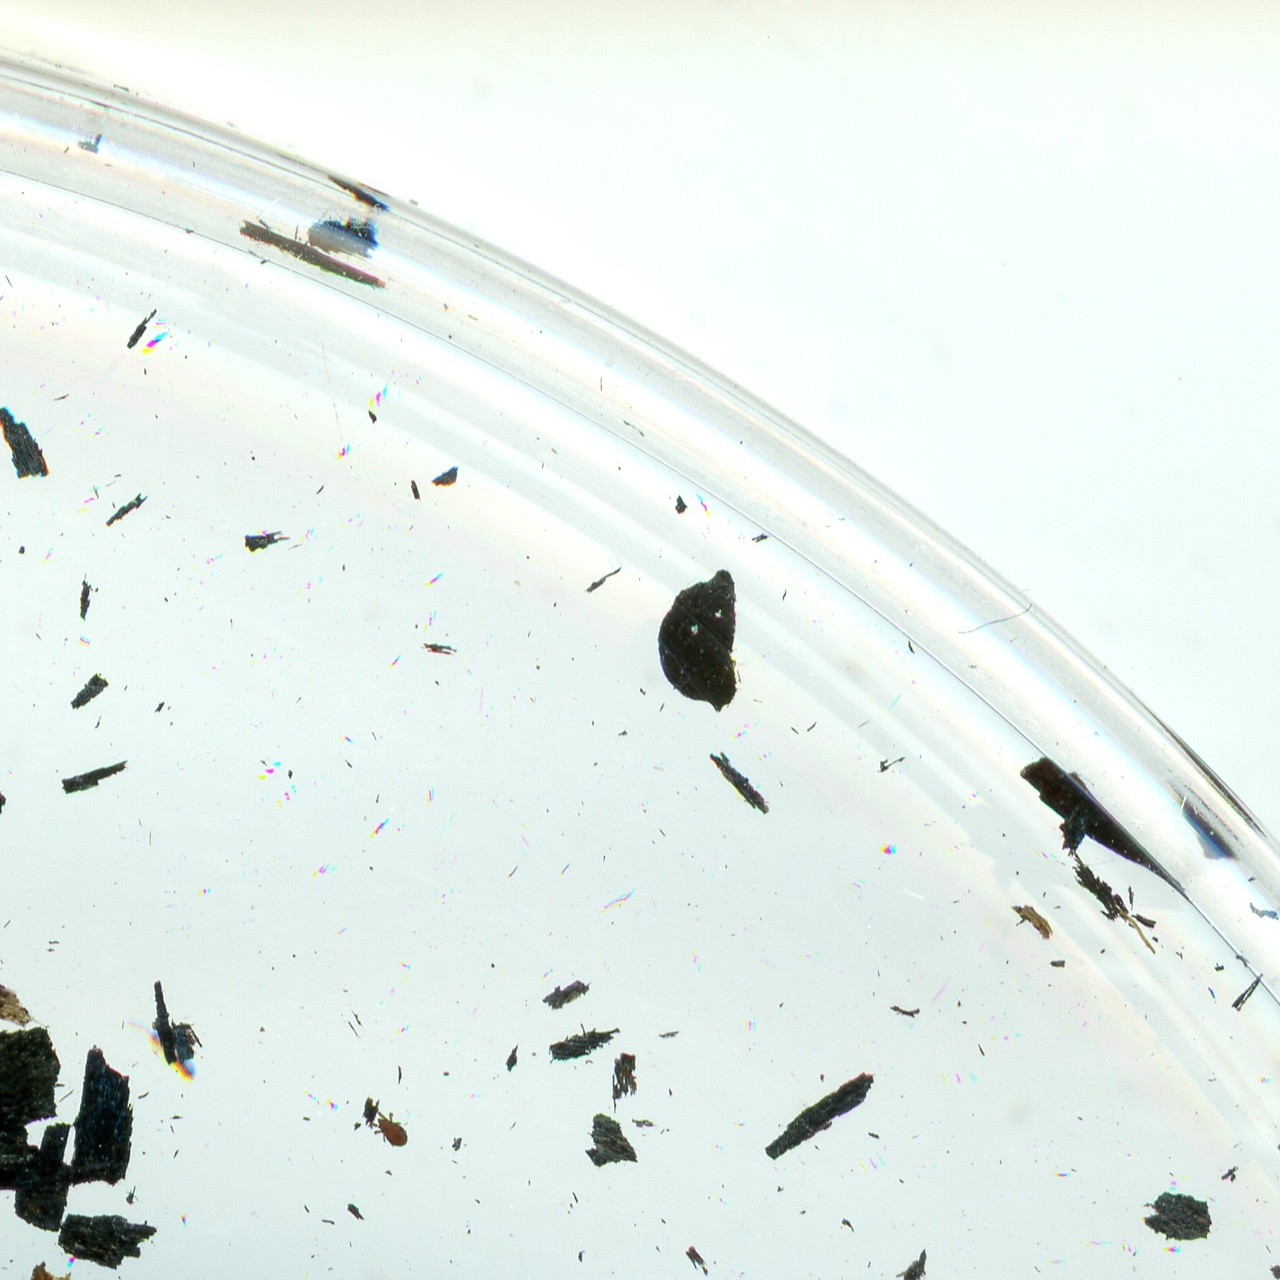arthropod: (128, 1015, 204, 1085), (370, 1107, 410, 1150)
